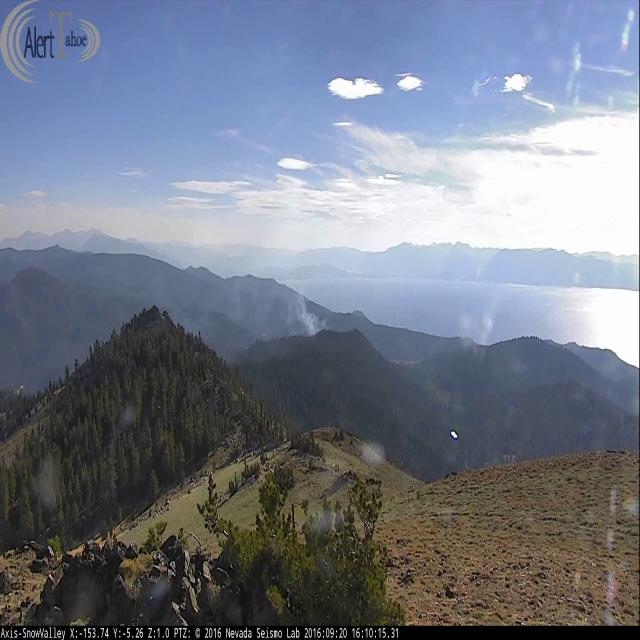smoke: (3, 230, 208, 383), (205, 270, 328, 334)
